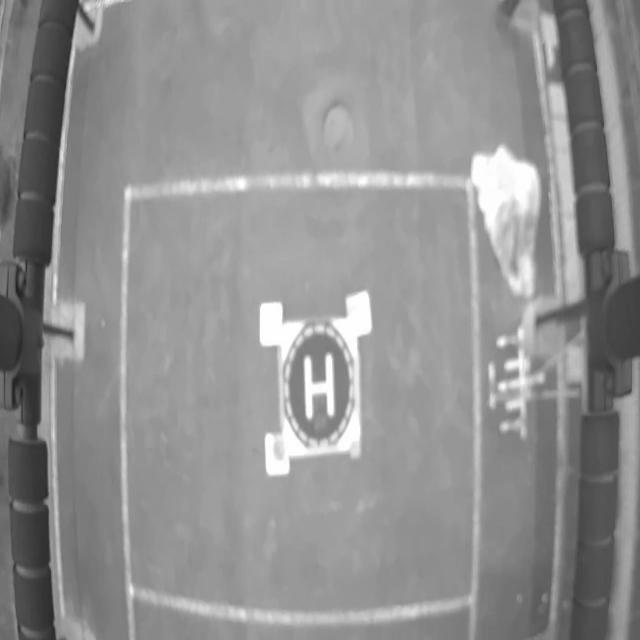Helipad: (304, 355, 336, 423)
